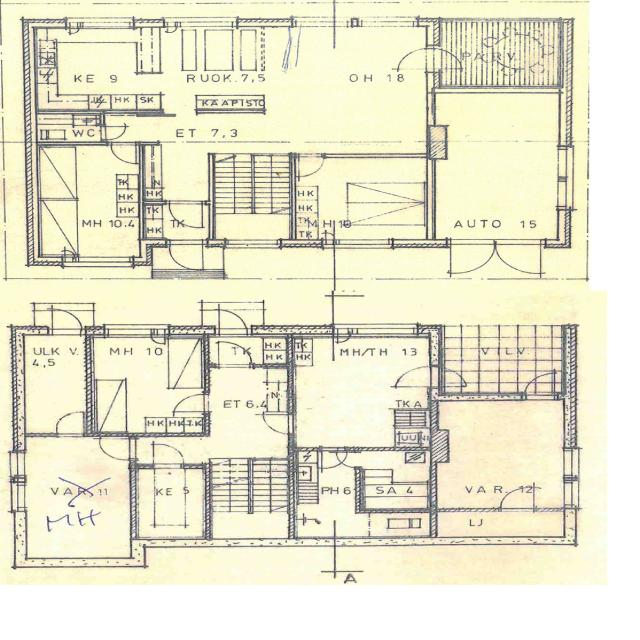door: (34, 28, 157, 112), (490, 238, 546, 277), (446, 239, 500, 278), (166, 200, 210, 232), (166, 238, 206, 272), (212, 340, 255, 369), (390, 364, 436, 390), (392, 46, 433, 74), (498, 484, 538, 512), (214, 308, 251, 337), (96, 435, 134, 462), (428, 48, 465, 74), (170, 391, 210, 415), (50, 307, 84, 335), (151, 442, 185, 468), (54, 409, 86, 436), (294, 153, 326, 180), (260, 412, 295, 436), (109, 141, 140, 166), (322, 449, 354, 471), (100, 124, 130, 142), (333, 332, 353, 346), (66, 22, 84, 36)
window: (560, 445, 584, 483), (333, 238, 393, 253), (72, 256, 134, 270), (553, 145, 574, 182), (224, 239, 283, 252), (104, 327, 158, 339), (77, 22, 132, 32), (489, 537, 528, 546)
zone: (281, 28, 430, 153), (433, 118, 566, 242), (290, 336, 429, 452), (434, 398, 570, 510), (15, 448, 134, 566), (40, 143, 142, 264), (89, 335, 206, 436), (297, 156, 428, 245), (33, 33, 155, 112), (437, 324, 566, 396), (436, 22, 566, 90), (206, 366, 293, 462), (21, 332, 90, 435), (179, 26, 284, 82), (134, 467, 208, 542), (212, 153, 293, 218), (359, 450, 432, 510), (142, 142, 210, 203), (34, 112, 104, 144), (109, 140, 139, 166), (100, 124, 130, 142)
